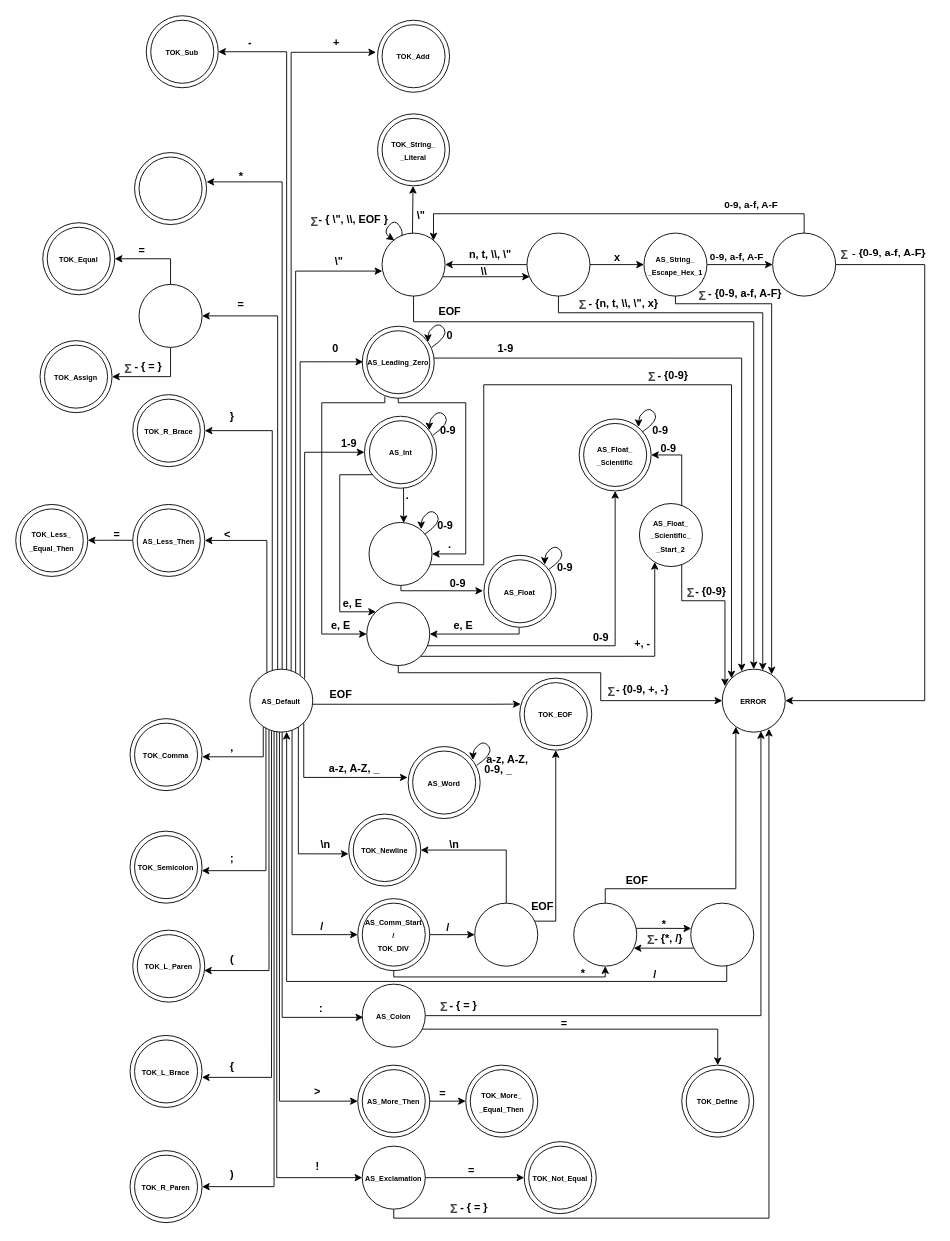
This 950x1241 diagram has some shape labels left out. The shapes that lost their labels are listed below. From the top down, each one's centre as x and y in pixels, then its label:
At [170,188]: "TOK_Mul".
At [413,264]: "AS_String".
At [558,264]: "AS_String_ _Escape".
At [804,264]: "AS_String_ _Escape_Hex_2".
At [170,315]: "AS_Equal".
At [400,553]: "AS_Float_Start".
At [398,634]: "AS_Float_ _Scientific_Start".
At [506,934]: "AS_LineComm".
At [605,934]: "AS_BlockComm".
At [722,934]: "AS_BlockComm_ _End".
